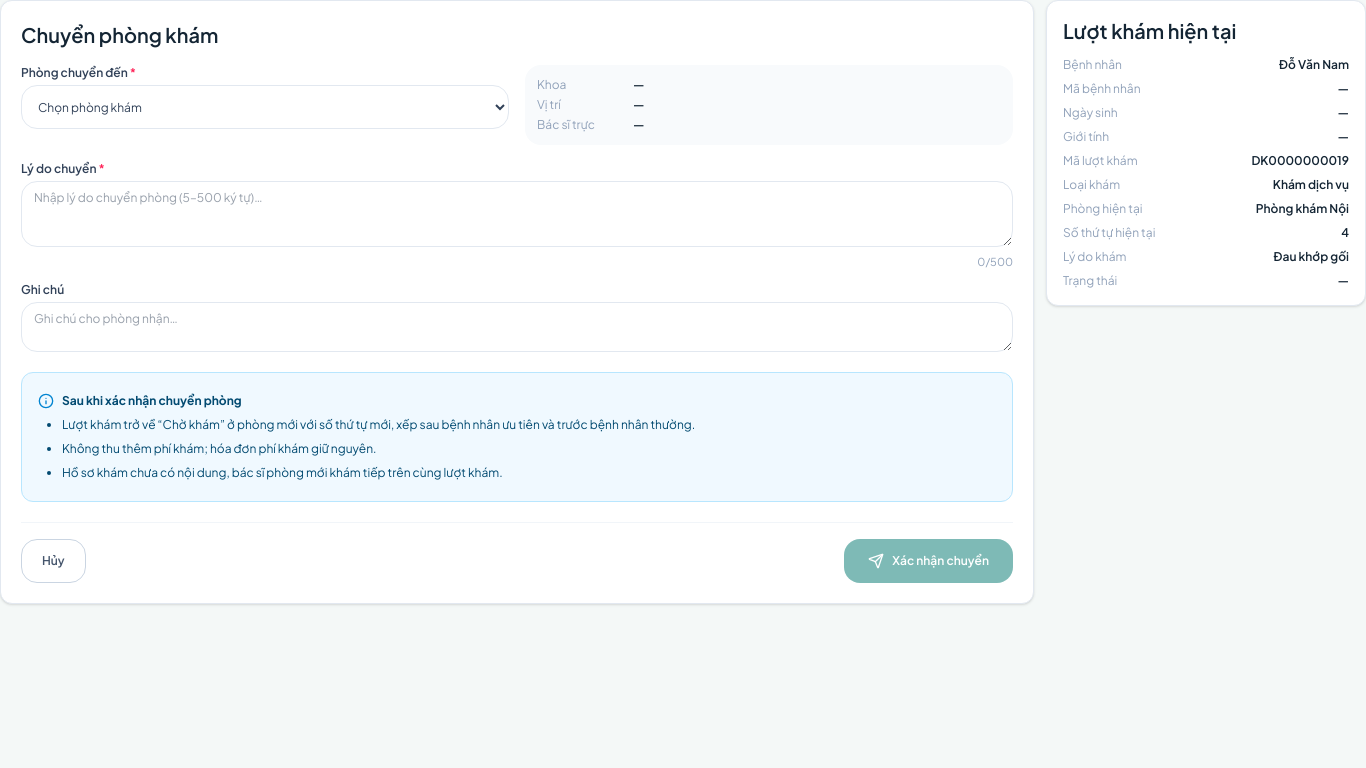
Test: TransferRoomPanel › shows the Doctor on duty of the chosen room and transfers the patient
Select "PK-NGOAI - Phòng khám Ngoại" in the dropdown labelled "Phòng chuyển đến *" at point(265, 107), box [21,85,509,129]
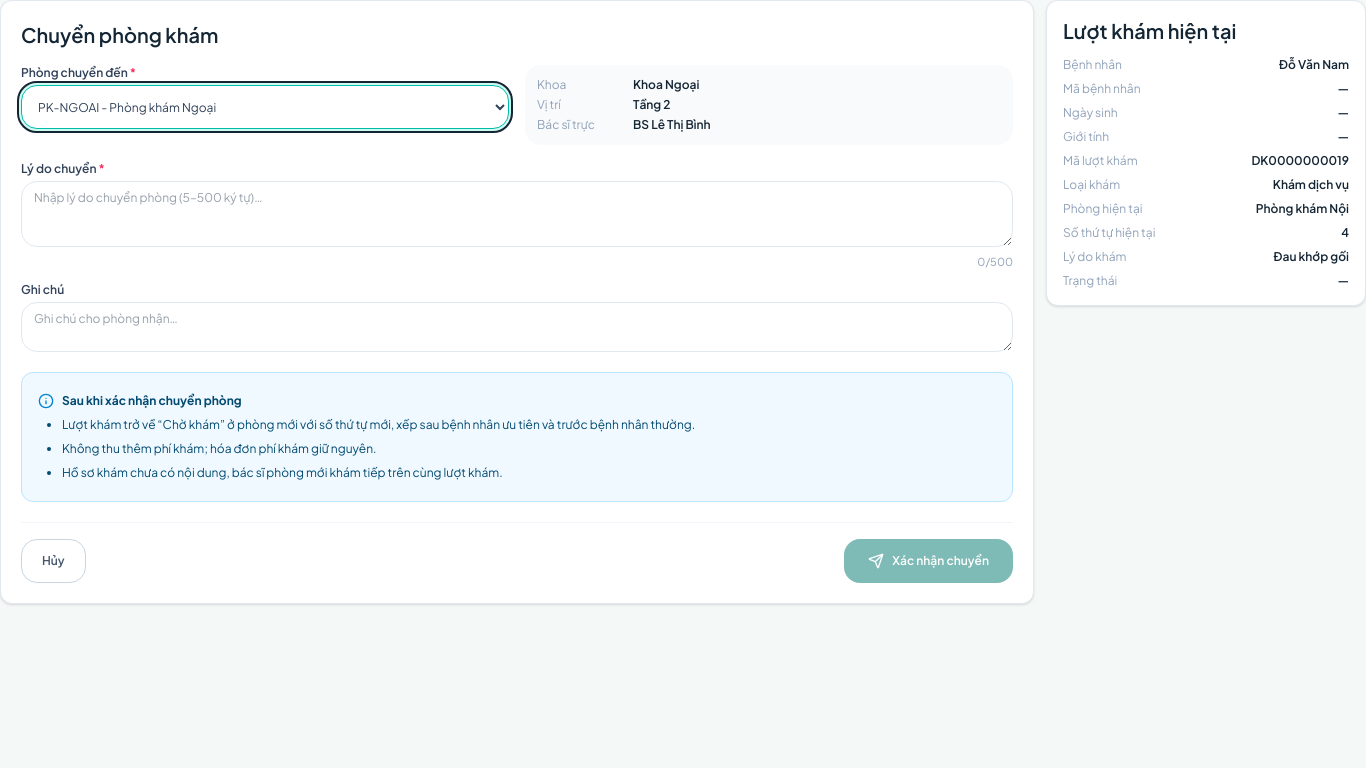
Type "  Cần khám chuyên khoa Ngoại  " into the text box labelled "Lý do chuyển * 0/500" at point(517, 214), box [21,181,1013,247]
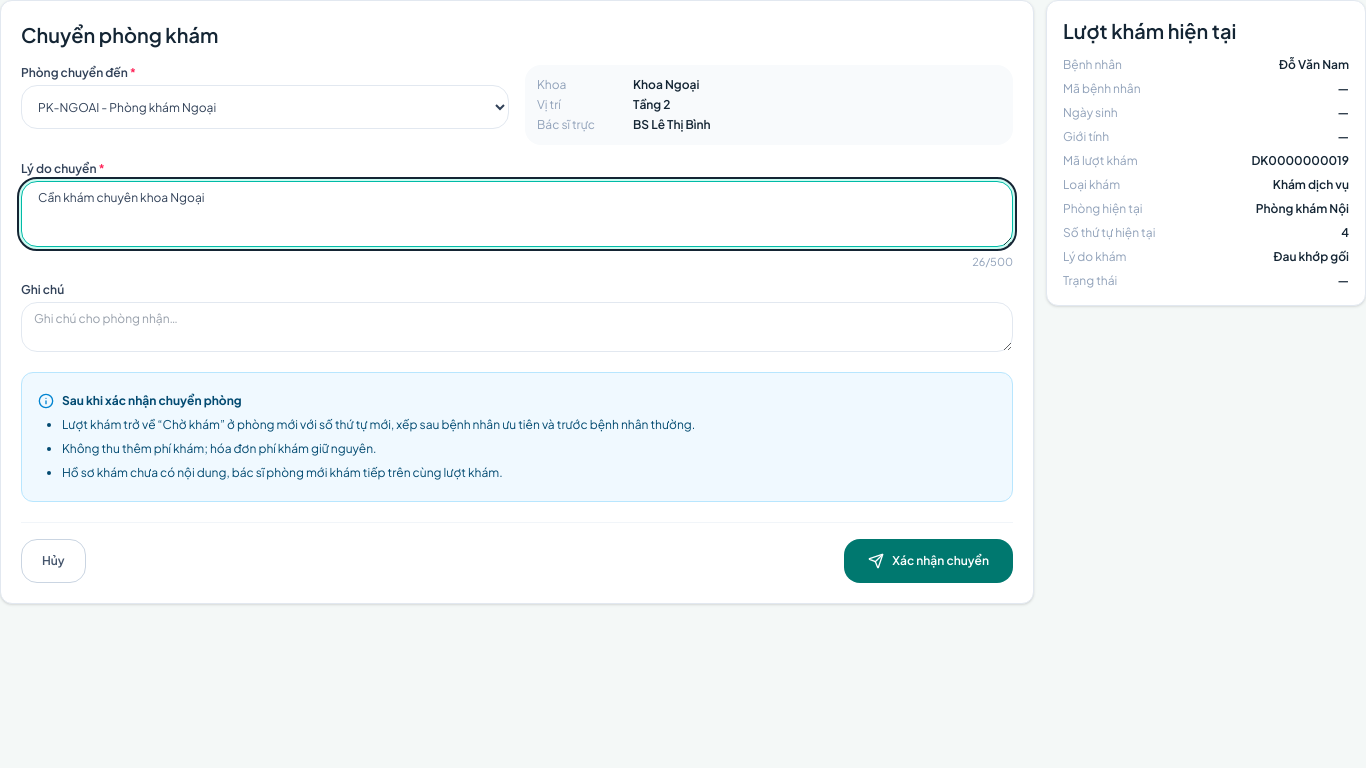
Expected: the text "BS Lê Thị Bình" is shown, [633,117,710,132]
Click the button "Xác nhận chuyển" at point(929, 561), box [844,539,1013,583]
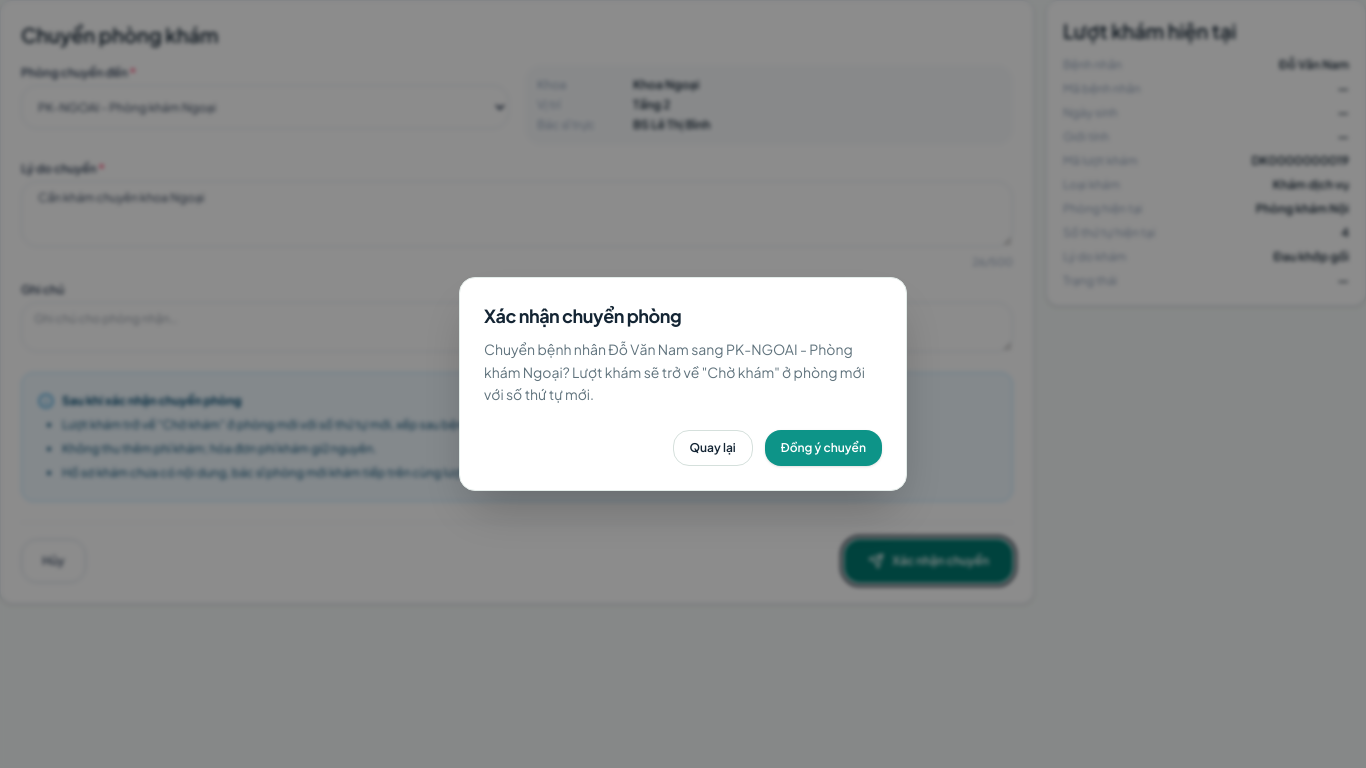
Click the button "Đồng ý chuyển" at point(823, 448), box [765,430,882,466]
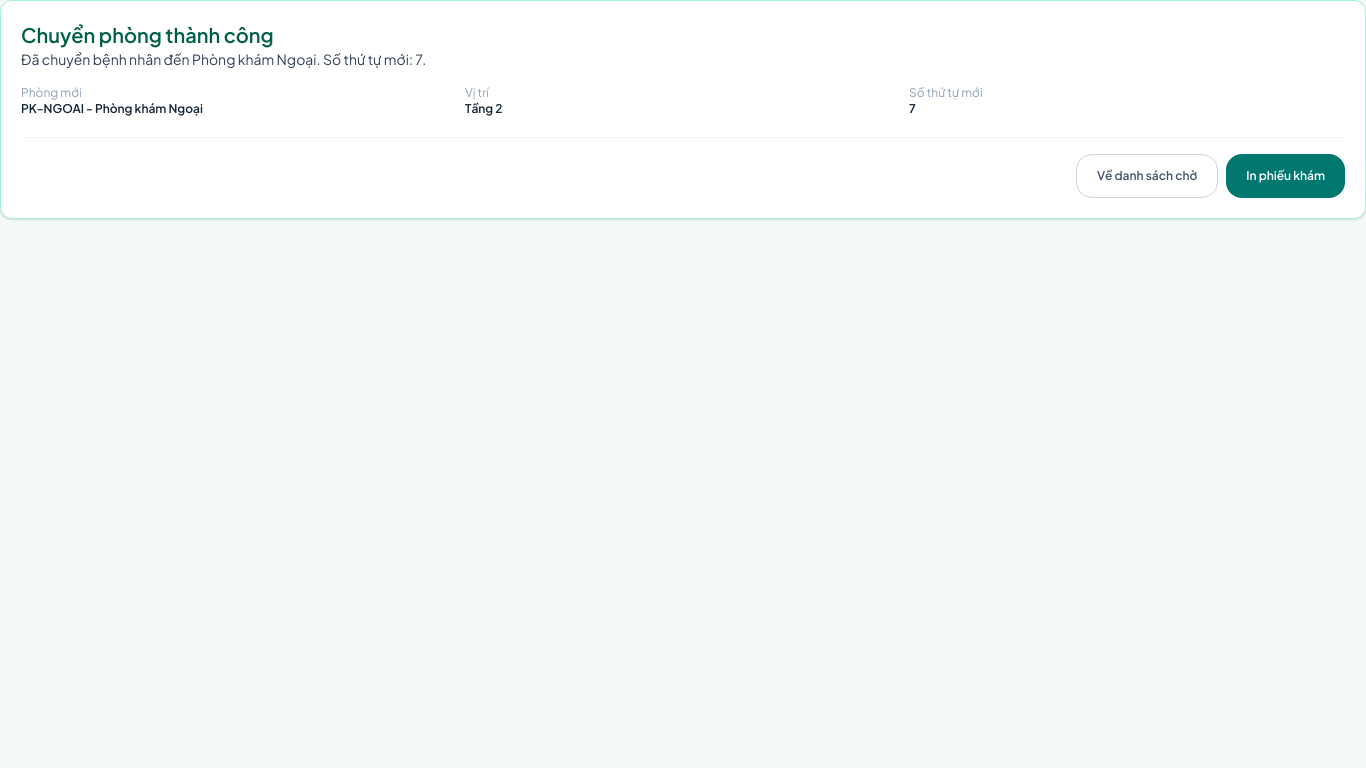
Expected: the message reads "Đã chuyển bệnh nhân đến Phòng khám Ngoại. Số thứ tự mới: 7.", [21,50,426,68]
Expected: the button "In phiếu khám" is shown, [1226,154,1345,198]
